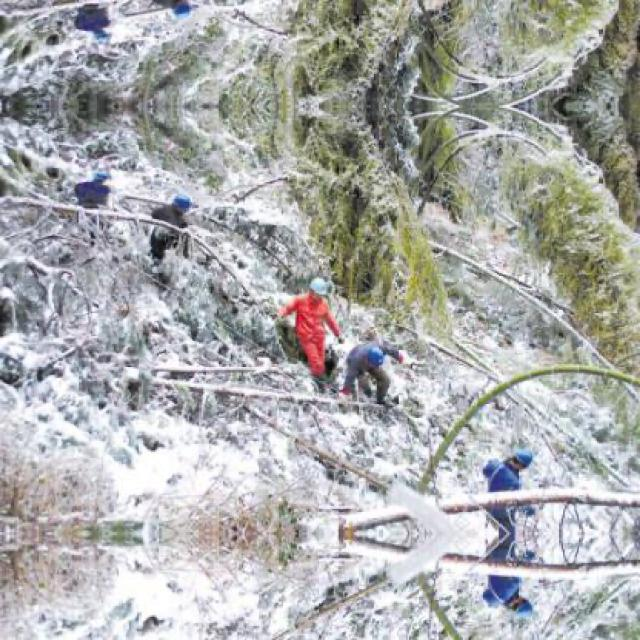con casco: (263, 263, 351, 325), (53, 157, 124, 215), (147, 193, 203, 247), (492, 432, 551, 482), (360, 330, 416, 376)
